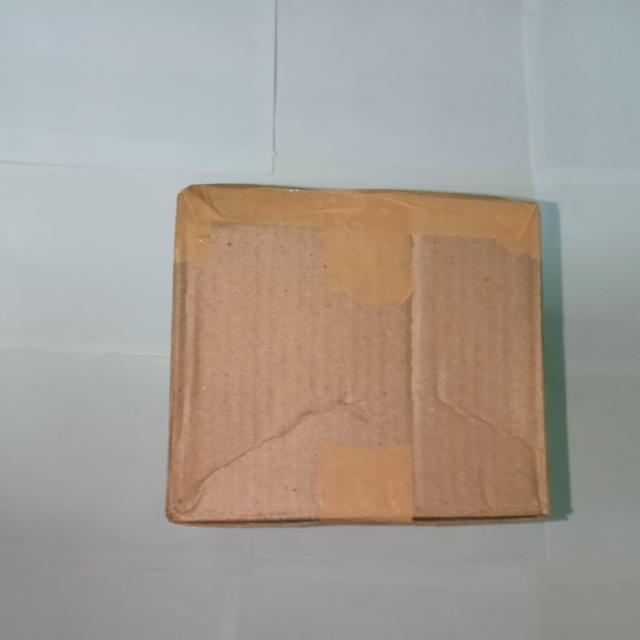box: (167, 195, 552, 516)
